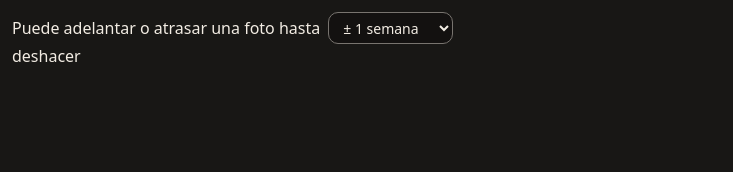
it: FlexMargin › saves a custom number of days, and the most there can be when it is too many
The image size is (733, 172).
Select "Otro…" in the dropdown named "Margen de fechas" at (391,28), box [328,12,453,44]
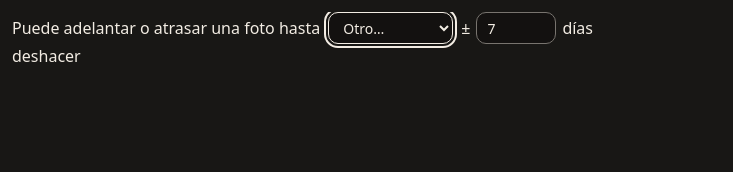
Replace the text in the number field named "Margen en días" with "90" at (516,28), box [476,12,556,44]
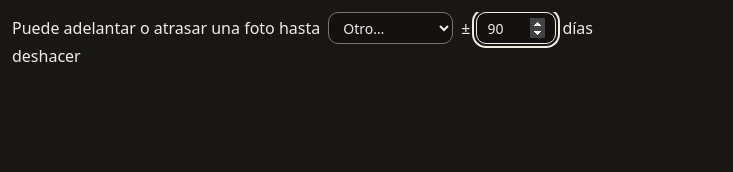
Replace the text in the number field named "Margen en días" with "400" at (516,28), box [476,12,556,44]
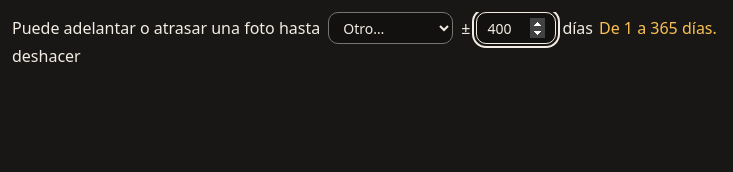
Expected: the message shows "365", [599,17,717,39]
Leave the number field named "Margen en días", box [476,12,556,44]
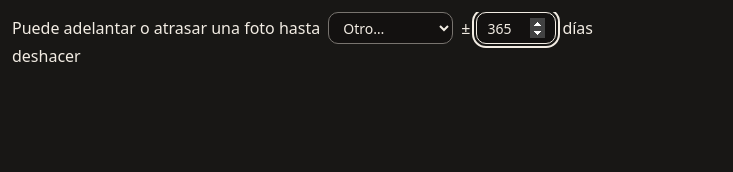
Expected: the number field named "Margen en días" holds "365", [476,12,556,44]
